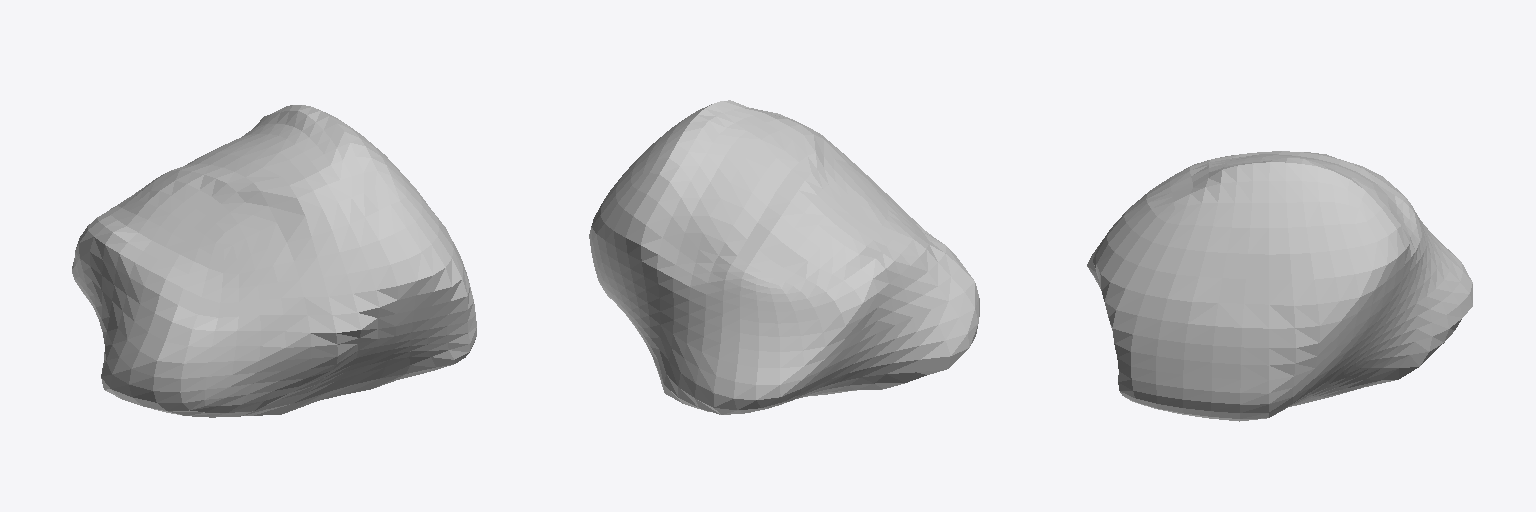
File: MarsRock4.obj
3 views of the same model, side by side, from view 1: azimuth 30°, elevation 25°; view 2: azimuth 150°, elevation 25°; view 3: azimuth 270°, elevation 25° (orthographic).
Visible parts, largest first — view 1: Rocks11; view 2: Rocks11; view 3: Rocks11.
Boxes of the visible parts, <box> form: Rocks11: <box>72,105,476,417</box>; Rocks11: <box>589,100,979,414</box>; Rocks11: <box>1087,151,1472,421</box>.
Size of the model in its own units: 1.19 by 0.8299 by 1.14.